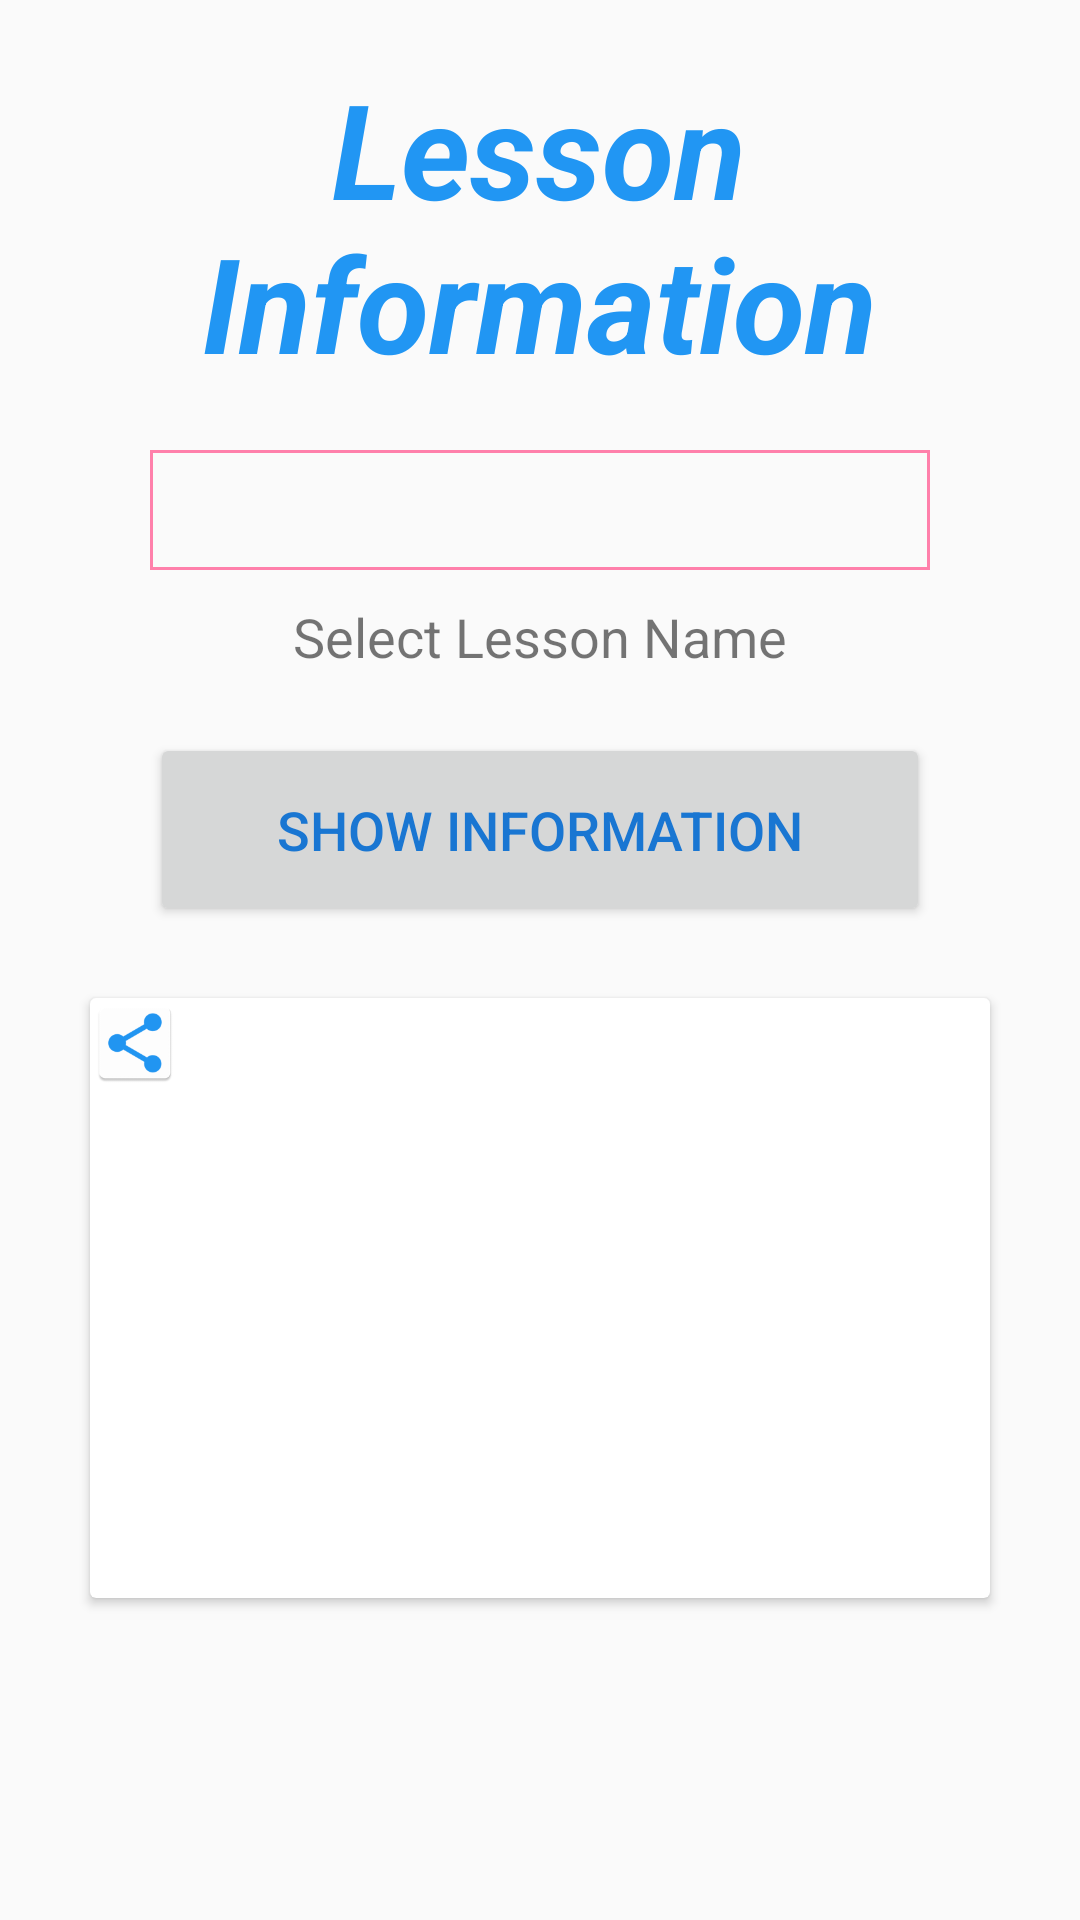

Icons on this 1080×1920 Android screen, each with its box as (x1, y1, x2, y2):
share: (99, 1012, 171, 1081)
